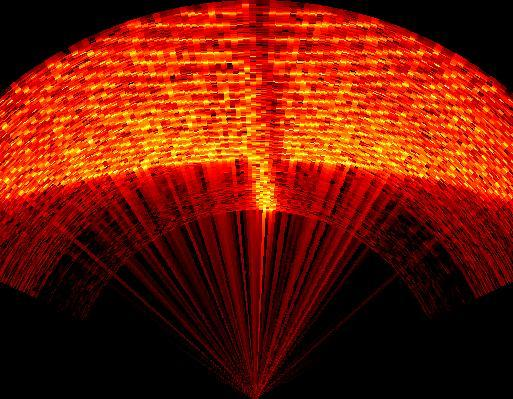pipe: (234, 1, 291, 200)
